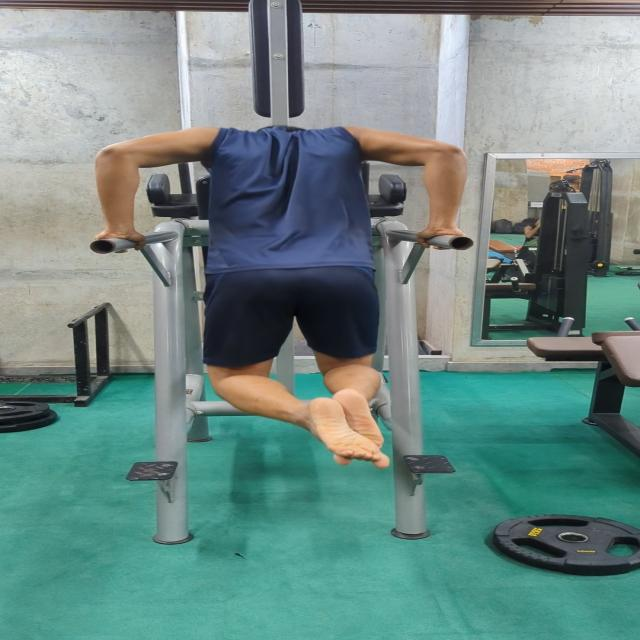Normal_Dips: (86, 108, 510, 475)
